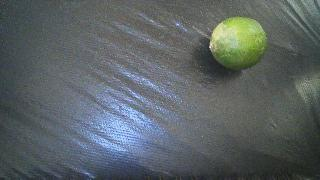DESECHO: (209, 17, 267, 70)
